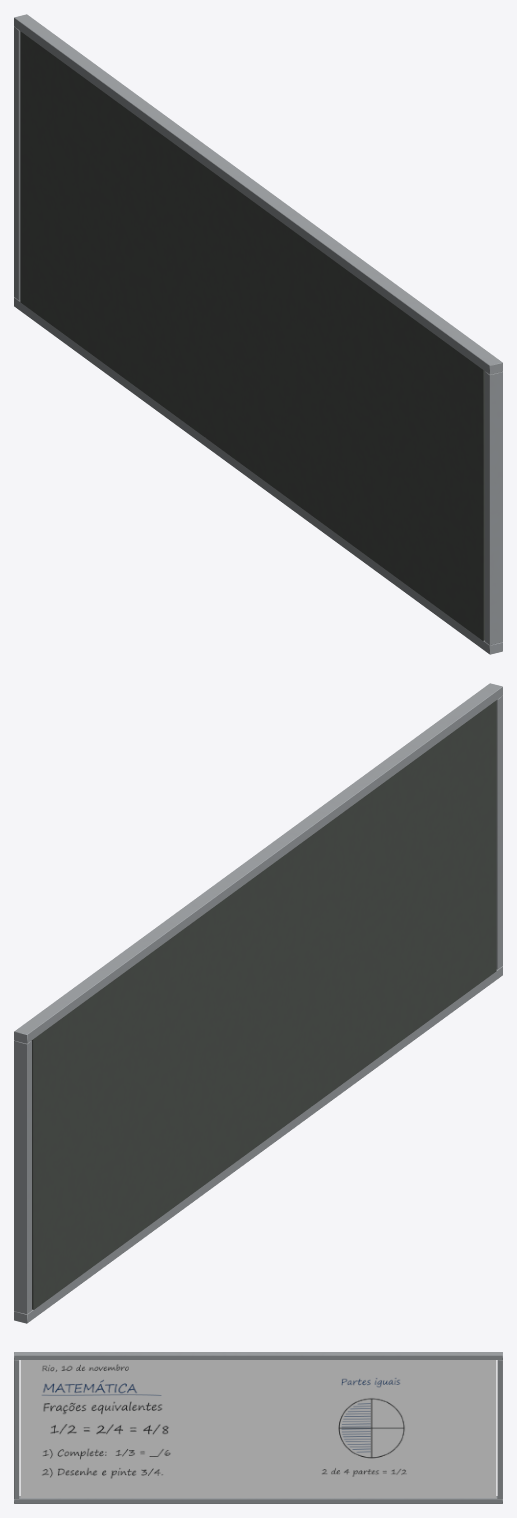
The model's file is quadro_branco_variacao_realista.glb.
The picture shows the model from 3 angles, top to bottom: view 1: azimuth 30°, elevation 25°; view 2: azimuth 150°, elevation 25°; view 3: azimuth 270°, elevation 25°; orthographic projection. The views are drawn at different scales.
Parts seen in each view (by area): view 1: Quadro_branco_PBR; view 2: Quadro_branco_PBR; view 3: Quadro_branco_PBR.
Part boxes in pixels (x1=…): Quadro_branco_PBR: x1=14, y1=14, x2=502, y2=654; Quadro_branco_PBR: x1=14, y1=683, x2=502, y2=1323; Quadro_branco_PBR: x1=14, y1=1352, x2=502, y2=1503.
Size of the model in its own units: 0.06 by 1.24 by 3.7.
Materials: 1 (1 with a texture image).
